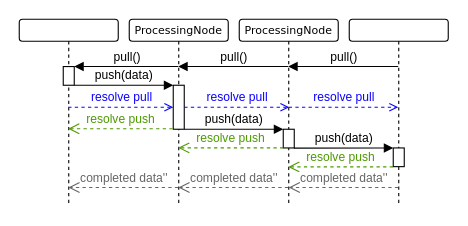
Image size: 468x226. Some labels were removed from this diagram. The centre of each missing label's shape, as x and y in pixels:
"SinkNode" belongs at point (398, 112).
"SourceNode" belongs at point (68, 112).
